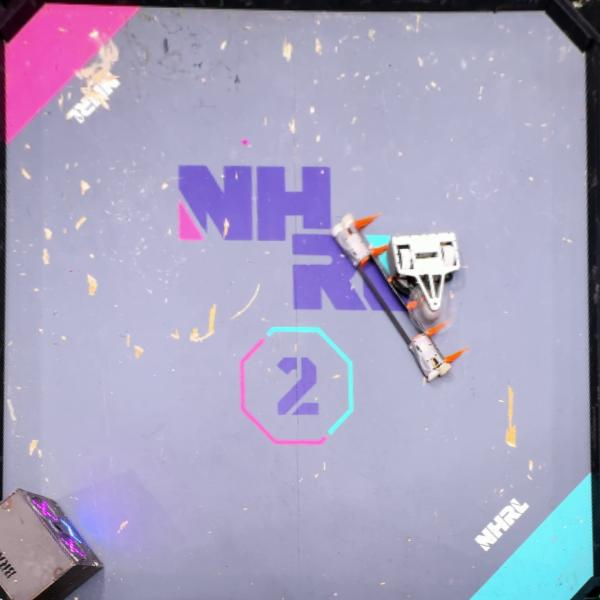housebot: (0, 485, 104, 600)
robot: (326, 211, 467, 383), (387, 232, 461, 330)
